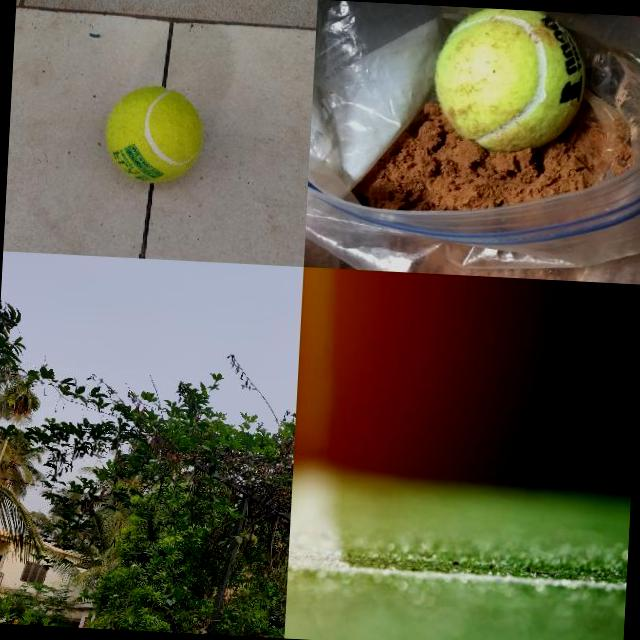Tennis Ball: (430, 5, 590, 156), (103, 84, 206, 185)
